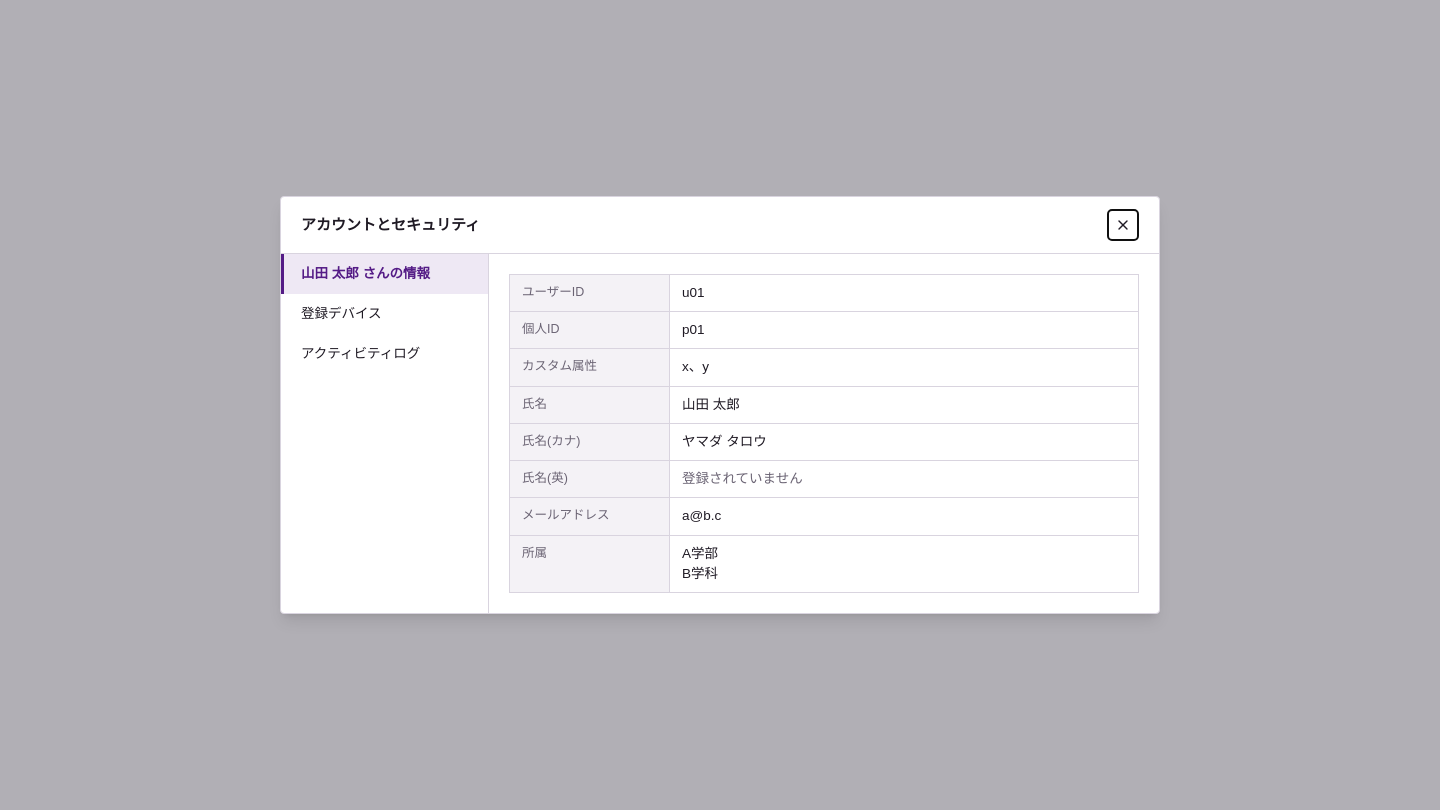
Test: 登録デバイス: 種類と登録日、トークンは出さない
The image size is (1440, 810).
expect the dialog is shown: met, box [280, 196, 1160, 614]
Click the tab "登録デバイス". click: point(384, 314)
box: [281, 294, 488, 334]
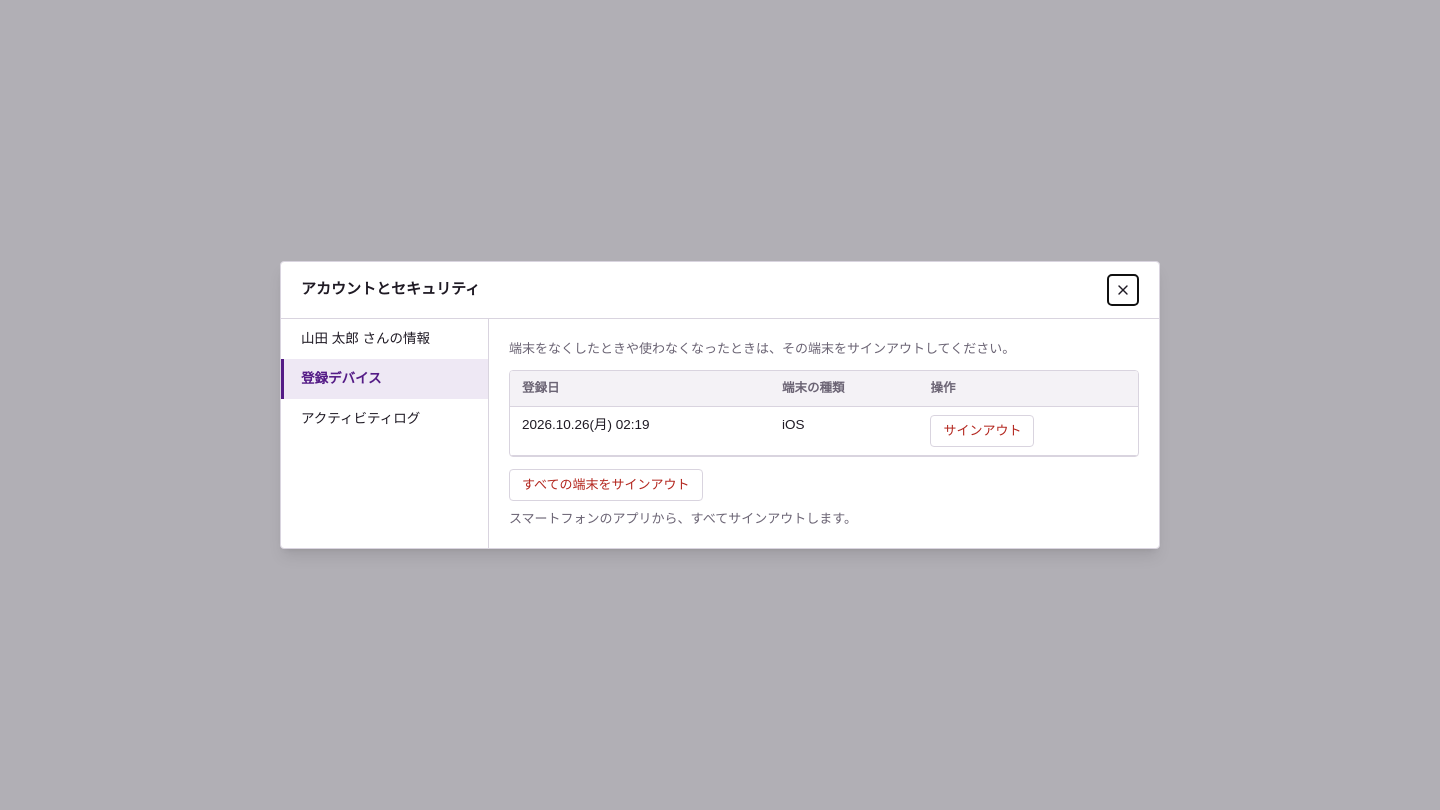
expect the text "iOS" is shown: met, box [770, 406, 918, 455]
expect the text "2026.10.26(月) 02:19" is shown: met, box [510, 406, 770, 455]
